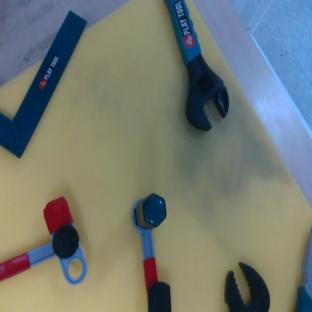non_pass: (132, 192, 171, 312)
pass: (0, 196, 87, 284)
